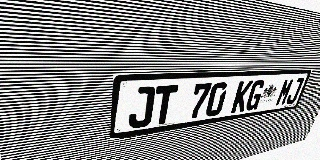0: (204, 82, 229, 117)
7: (187, 83, 212, 120)
G: (244, 80, 266, 111)
J: (128, 86, 156, 129), (285, 78, 305, 105)
K: (230, 80, 253, 113)
M: (274, 78, 295, 107)
T: (151, 85, 178, 126)
